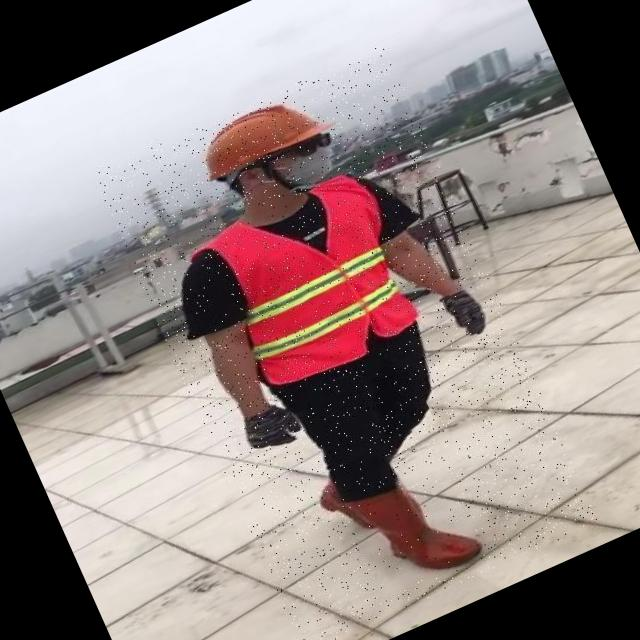hard_hat: (184, 79, 336, 191)
safety_vest: (198, 167, 431, 397)
vehicle: (91, 43, 598, 640)
work_boots: (344, 458, 486, 598)
